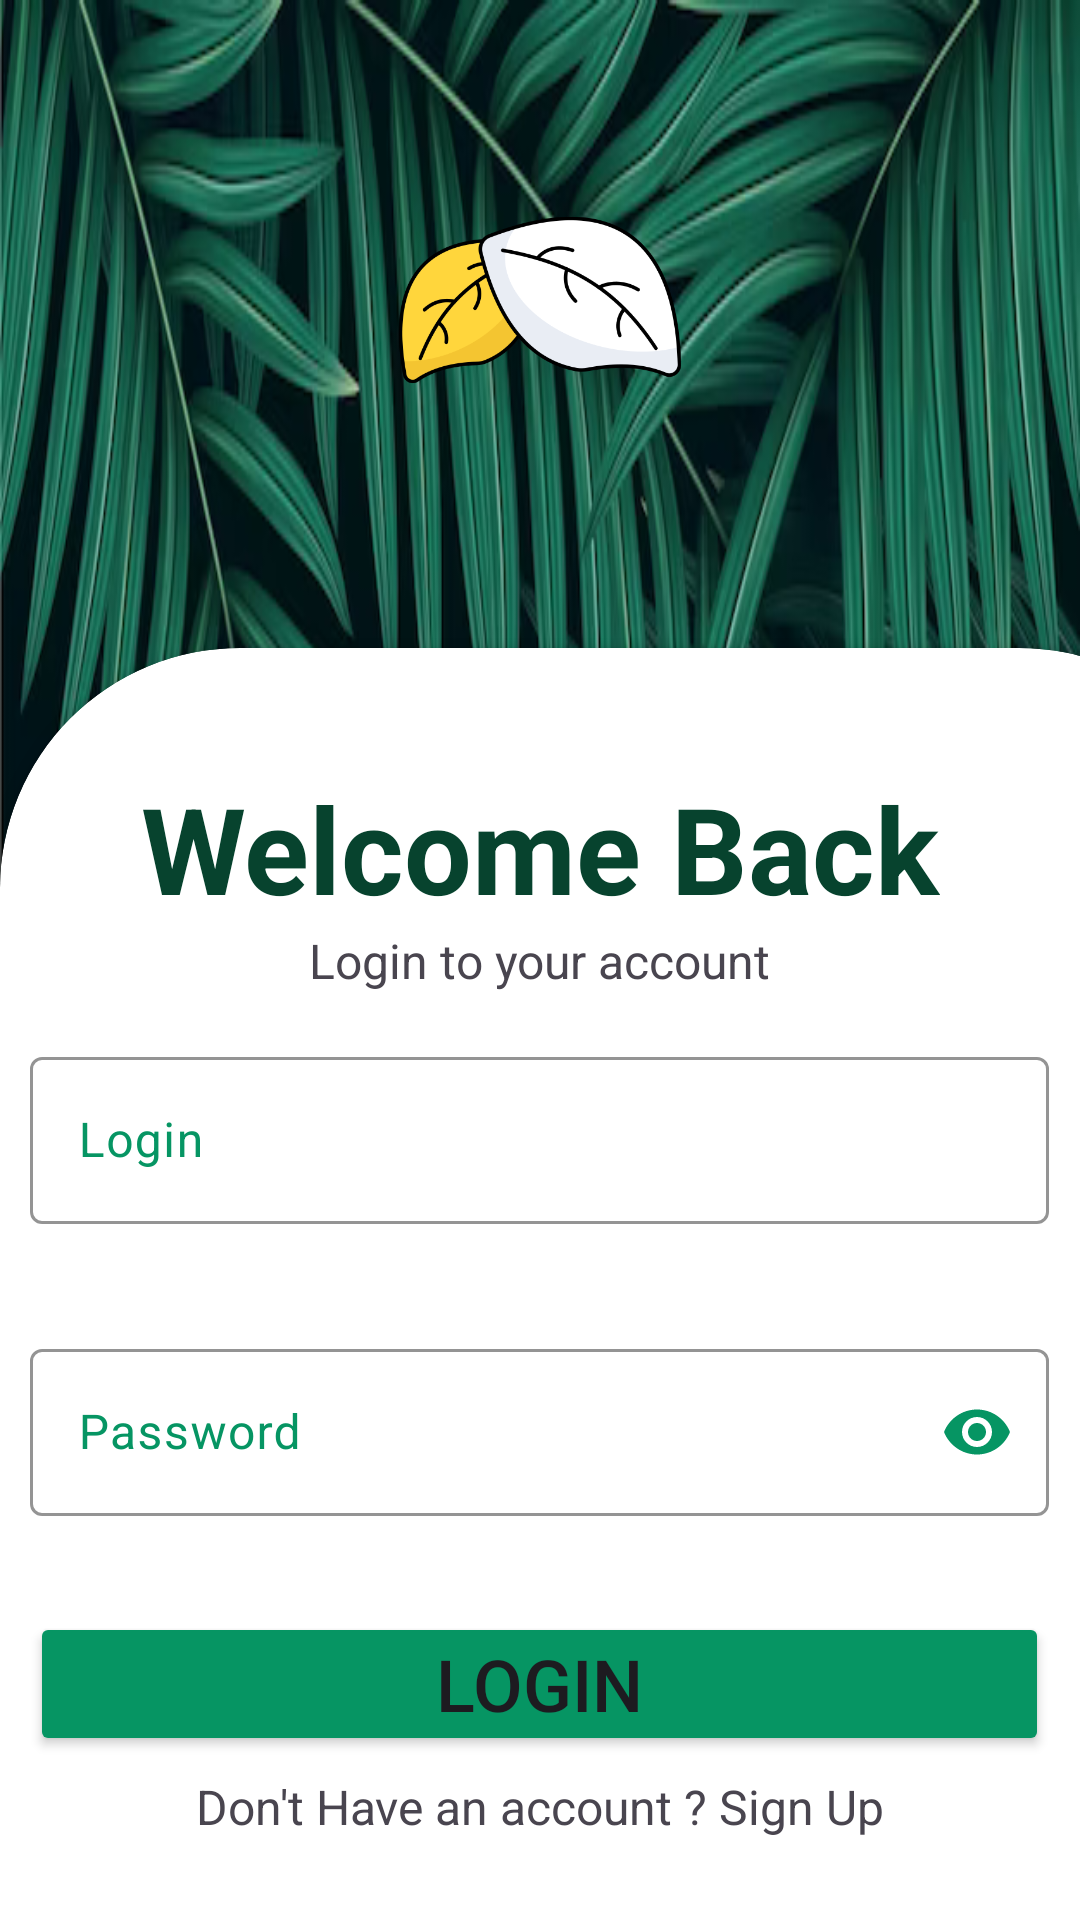

Icon click points for this 1080px x 1920px phone screenshot, format point (x, y):
leaves: point (540, 300)
